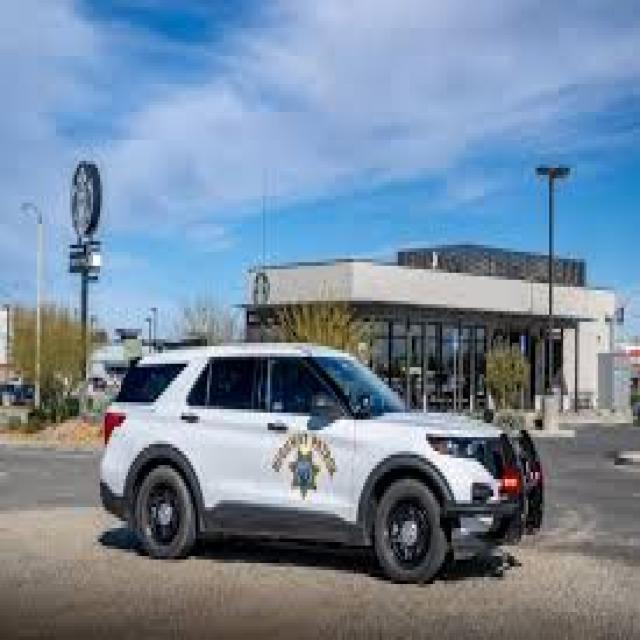cop: (102, 344, 548, 581)
